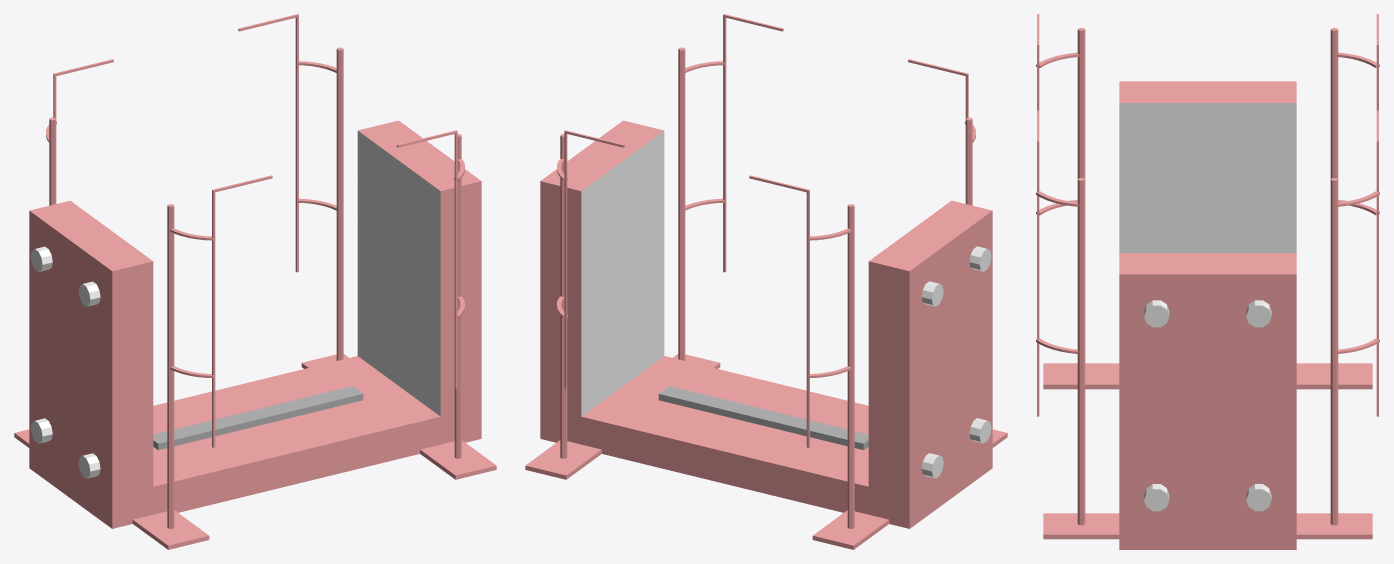
The model's file is 载货台.glb.
3 views of the same model, side by side, from view 1: azimuth 30°, elevation 25°; view 2: azimuth 150°, elevation 25°; view 3: azimuth 270°, elevation 25° (orthographic). The views are drawn at different scales.
Parts seen in each view (by area): view 1: 载货台; view 2: 载货台; view 3: 载货台.
Part boxes in pixels (x1,y1,x2,y2): 载货台: [14, 14, 496, 549]; 载货台: [525, 14, 1007, 549]; 载货台: [1036, 14, 1379, 549].
Size of the model in its own units: 1.27 by 1.1 by 0.9096.
